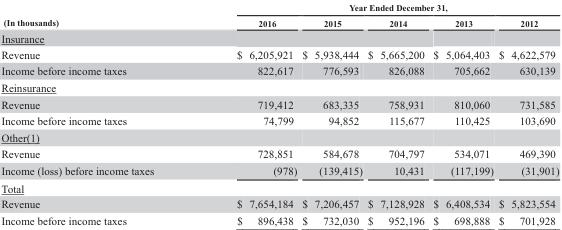table: (0, 0, 558, 227)
table column: (0, 0, 194, 227), (194, 0, 298, 227), (428, 0, 495, 227), (298, 0, 364, 227), (364, 0, 428, 227), (495, 0, 558, 227)
table column header: (0, 0, 558, 29)
table projected row header: (0, 78, 558, 95), (0, 128, 558, 145), (0, 29, 558, 45), (0, 179, 558, 195)
table row: (0, 161, 558, 179), (0, 61, 558, 78), (0, 78, 558, 95), (0, 111, 558, 128), (0, 128, 558, 145), (0, 29, 558, 45), (0, 45, 558, 61), (0, 95, 558, 111), (0, 145, 558, 161), (0, 179, 558, 195), (0, 195, 558, 211), (0, 211, 558, 227), (0, 14, 558, 29), (0, 0, 558, 14)
table spanning cell: (0, 0, 194, 29), (194, 0, 558, 14)
